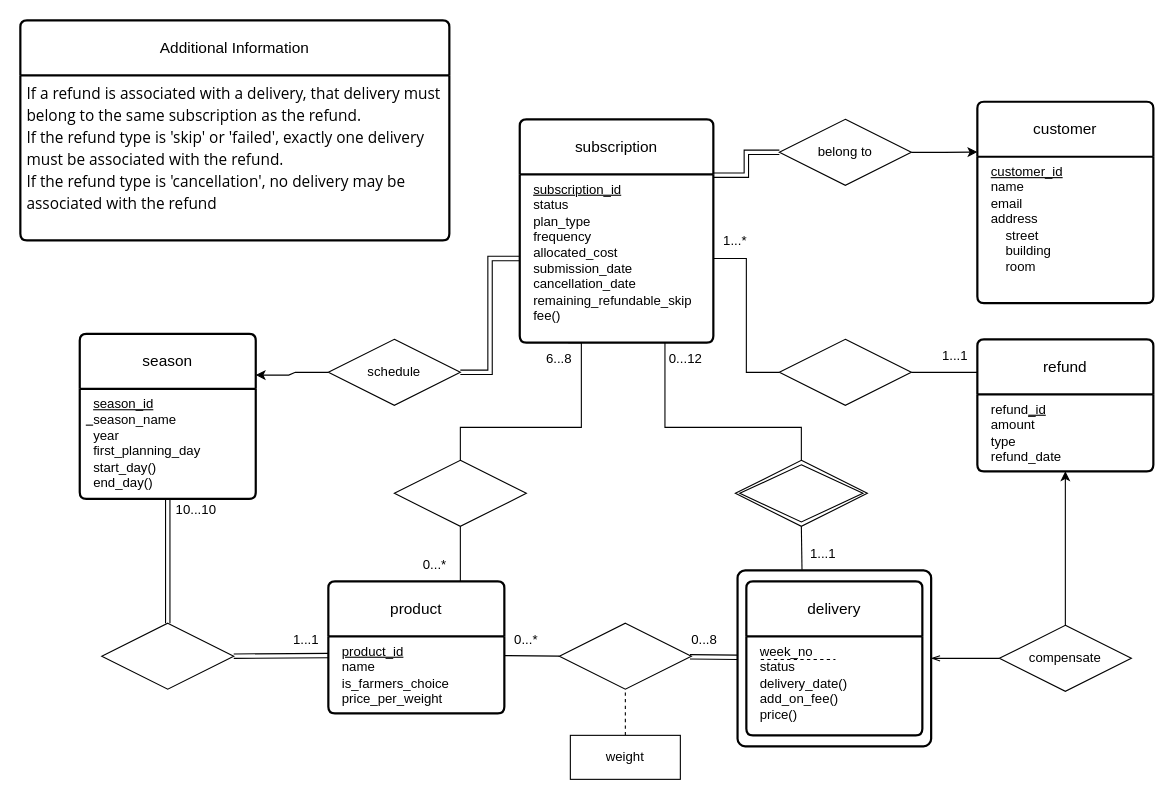
The diagram is 1173 pixels wide and 799 high, and some of its shapes have lost their labels. Each missing label, with the centre of its shape:
add on: the point at 624,655
choose: the point at 459,492
grow: the point at 167,655
have: the point at 800,492
settled by: the point at 844,371
